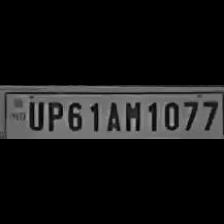0: (160, 98, 180, 132)
1: (142, 98, 160, 132), (85, 100, 102, 132)
6: (64, 98, 84, 132)
7: (198, 98, 218, 132), (180, 97, 198, 131)
A: (101, 98, 121, 132)
M: (122, 98, 142, 132)
P: (45, 98, 63, 132)
U: (25, 98, 43, 132)
